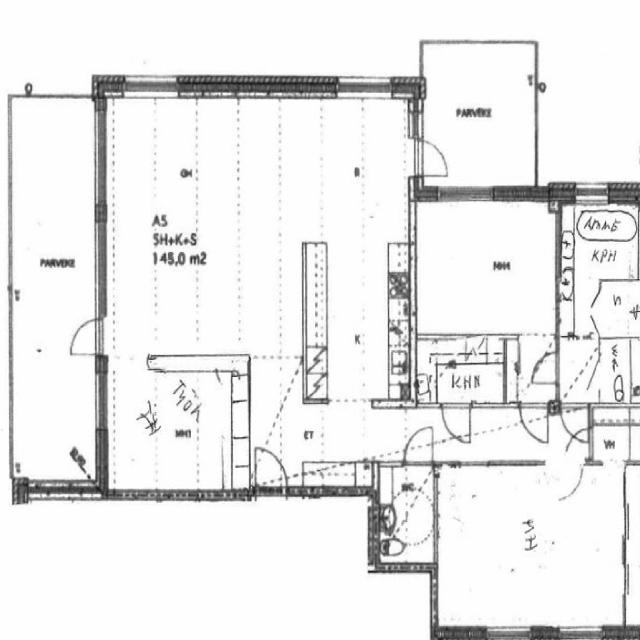door: (64, 318, 108, 356), (255, 487, 286, 538), (255, 448, 286, 499), (409, 140, 452, 176), (442, 403, 470, 444), (404, 425, 432, 465), (519, 300, 546, 339), (556, 460, 583, 498), (531, 351, 562, 382), (574, 358, 602, 390), (580, 290, 602, 313), (580, 313, 602, 336)
